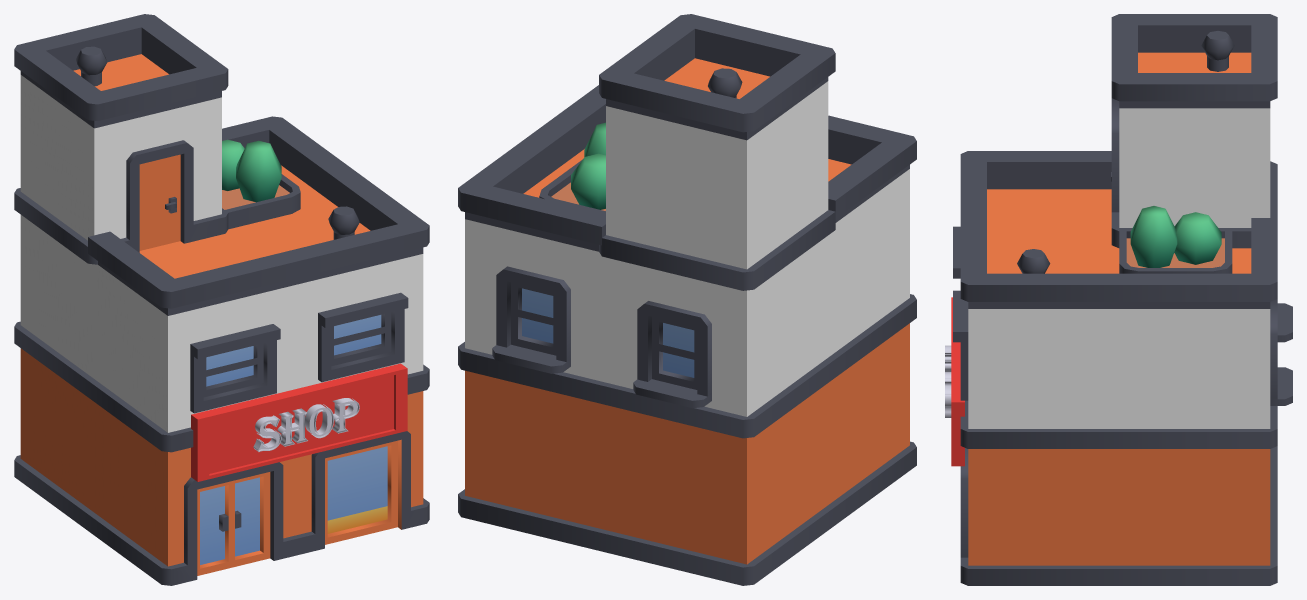
Rendered from shop_level1.glb.
3 renders of one model, left to right at view 1: azimuth 30°, elevation 25°; view 2: azimuth 150°, elevation 25°; view 3: azimuth 270°, elevation 25°, orthographic. The views are drawn at different scales.
Parts seen in each view (by area): view 1: building-d, 立方体, 文本; view 2: building-d; view 3: building-d, 立方体, 文本.
Boxes of the visible parts, x1=… form: building-d: x1=14, y1=14, x2=429, y2=585; 立方体: x1=191, y1=363, x2=407, y2=481; 文本: x1=253, y1=398, x2=359, y2=451; building-d: x1=458, y1=14, x2=916, y2=585; building-d: x1=953, y1=14, x2=1292, y2=585; 立方体: x1=951, y1=297, x2=964, y2=466; 文本: x1=945, y1=345, x2=951, y2=417.
Bounding box in the file's own units: 0.84 × 1.29 × 0.9211.
Materials: 3 (1 with a texture image).
